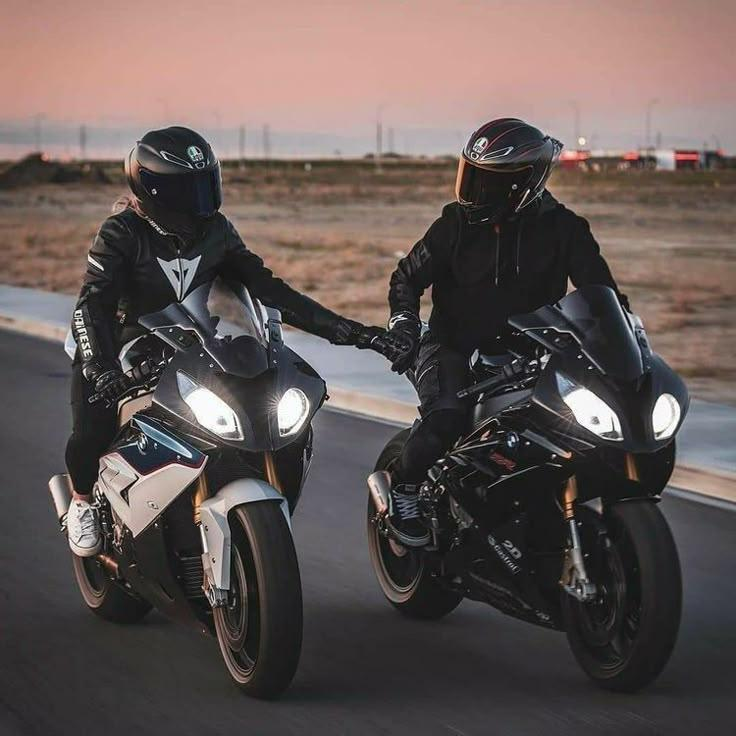Helmet: (456, 119, 561, 222), (126, 126, 221, 234)
